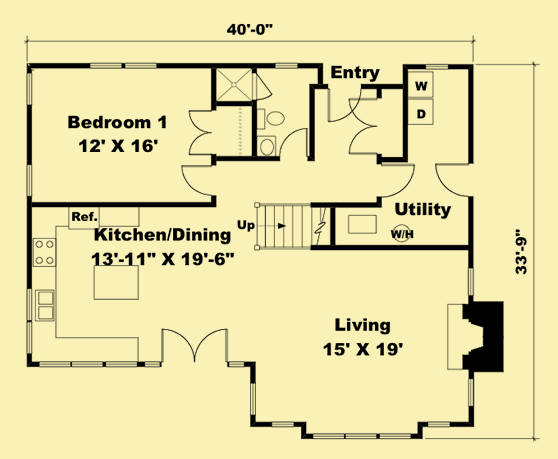door: (159, 324, 228, 366), (346, 95, 383, 160), (433, 159, 476, 200), (186, 107, 219, 158), (326, 82, 365, 124), (380, 160, 420, 199), (178, 161, 218, 199), (278, 126, 310, 164)
large sink: (255, 105, 288, 135)
small sink: (253, 133, 278, 160)
stairs: (235, 199, 340, 254)
windows: (37, 358, 139, 372), (310, 430, 414, 442), (87, 59, 161, 73), (24, 287, 33, 357), (23, 162, 35, 203), (464, 374, 478, 409), (23, 70, 35, 109), (464, 265, 478, 298), (247, 379, 258, 419), (425, 418, 456, 430), (423, 62, 454, 74), (271, 59, 301, 71), (270, 417, 297, 430)
